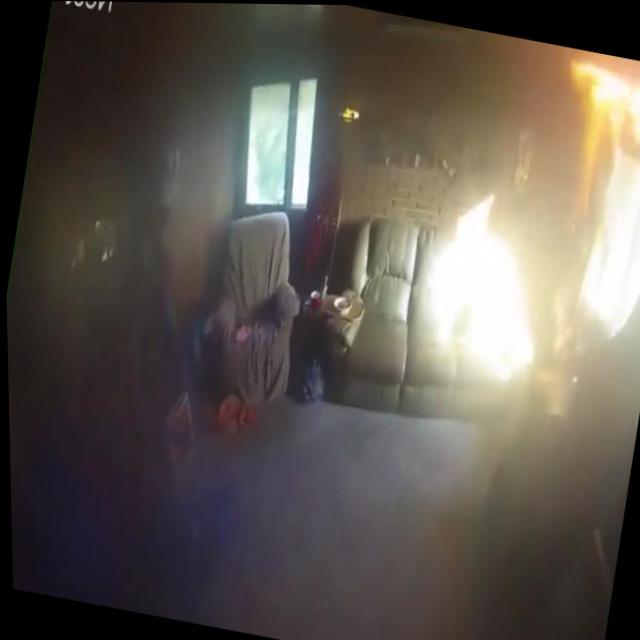fire: (554, 55, 640, 155)
